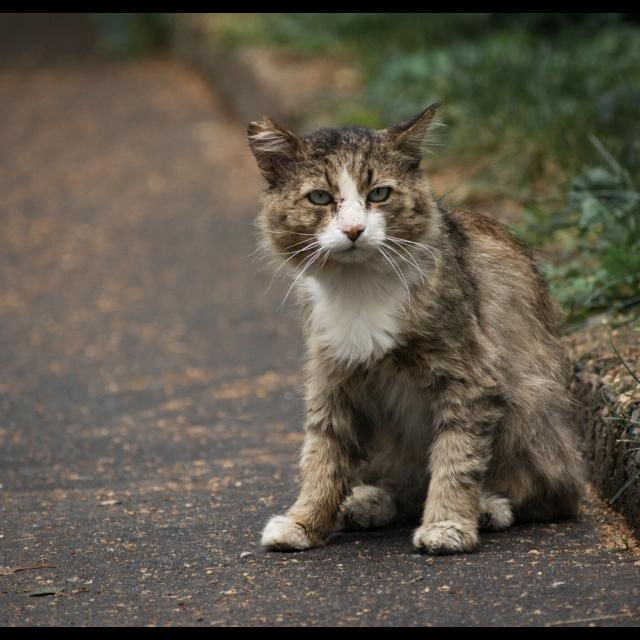animals: (246, 102, 583, 552)
